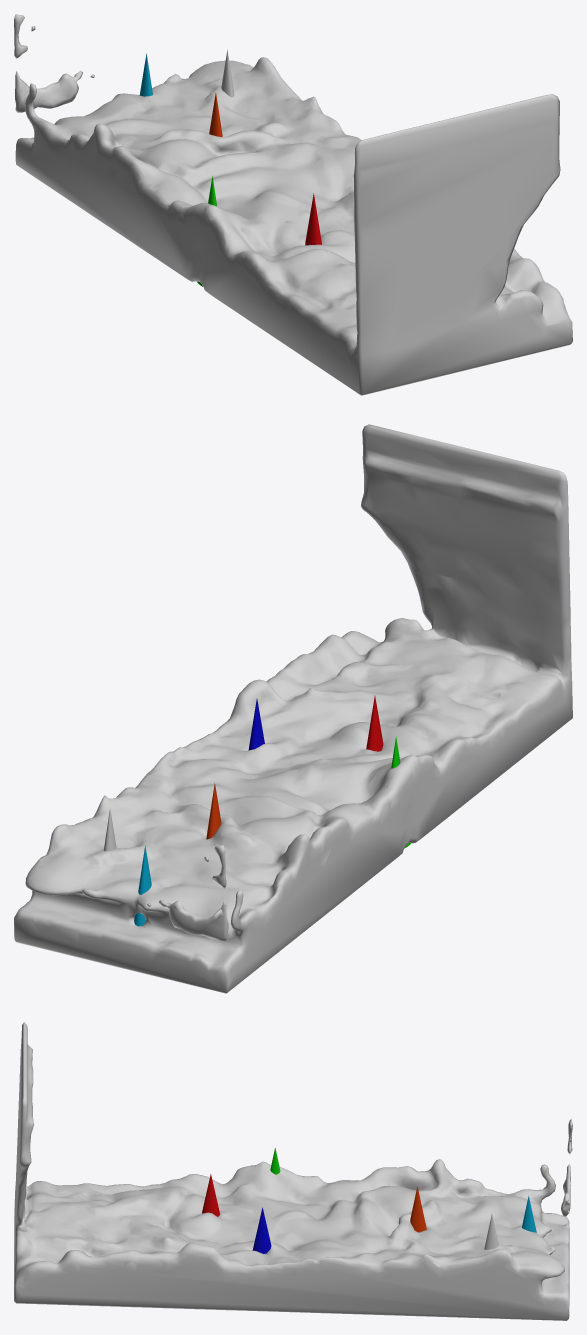
The picture shows the model from 3 angles, top to bottom: view 1: azimuth 30°, elevation 25°; view 2: azimuth 150°, elevation 25°; view 3: azimuth 270°, elevation 25°; orthographic projection. The views are drawn at different scales.
Visible parts, largest first — view 1: Liquid_Domain, 円錐.001; view 2: Liquid_Domain; view 3: Liquid_Domain, 円錐.002, 円錐.004, 円錐.001.
Boxes of the visible parts, x1,y1,x2,y2 form: Liquid_Domain: [14, 14, 572, 395]; 円錐.001: [305, 193, 321, 245]; Liquid_Domain: [14, 424, 572, 993]; Liquid_Domain: [14, 1022, 572, 1320]; 円錐.002: [252, 1207, 271, 1253]; 円錐.004: [410, 1186, 426, 1232]; 円錐.001: [202, 1174, 219, 1216].
Bounding box in the file's own units: 129 × 158 × 363.
